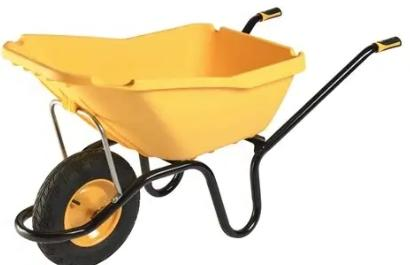BROUETTE: (0, 0, 402, 265)
